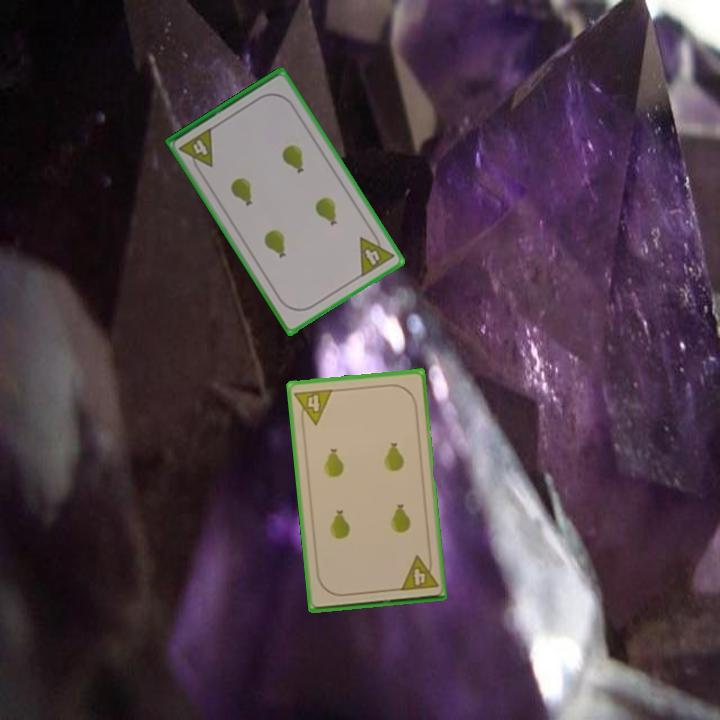4p: (356, 226, 397, 280), (176, 124, 217, 176), (291, 385, 335, 429), (396, 552, 441, 594)
